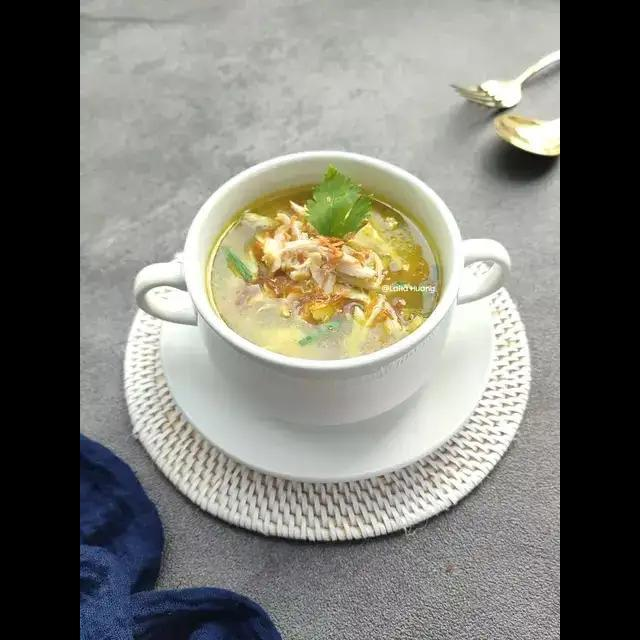Soto: (206, 164, 439, 360)
